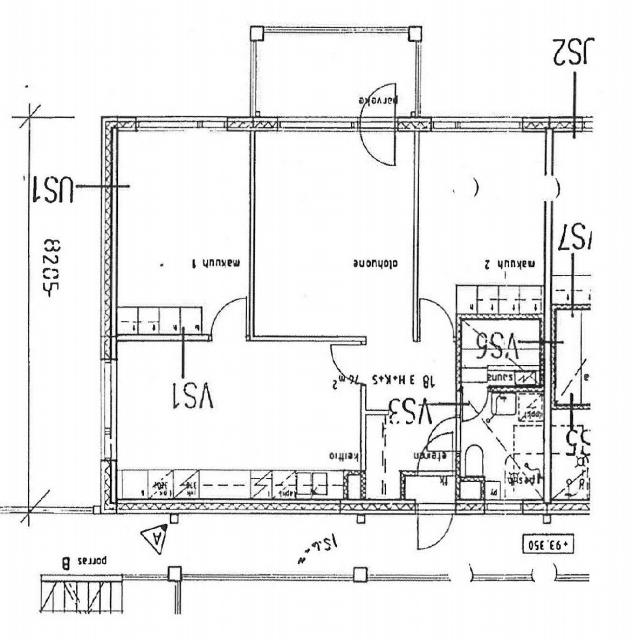door: (318, 345, 366, 383), (360, 116, 395, 162), (360, 85, 395, 131), (418, 504, 452, 546), (418, 417, 460, 451), (417, 438, 453, 475), (212, 302, 246, 340), (420, 306, 453, 342), (462, 385, 488, 415)
